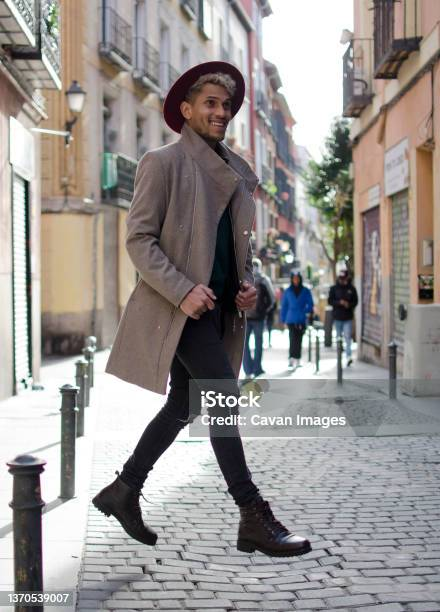person: (93, 59, 318, 562), (233, 255, 277, 386), (279, 266, 317, 366), (327, 266, 361, 366)
